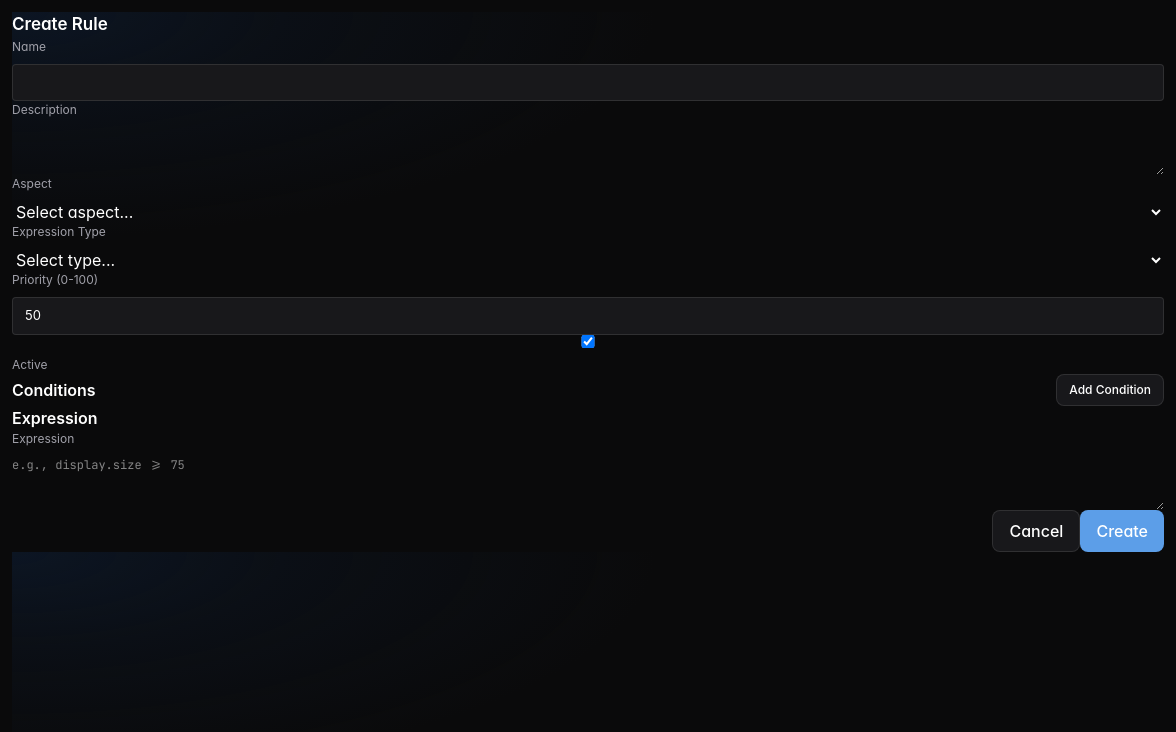
it: RuleEditor › Condition Builder › adds new condition when add button clicked
Click the button "Add Condition" at (1110, 390), box [1056, 374, 1164, 406]
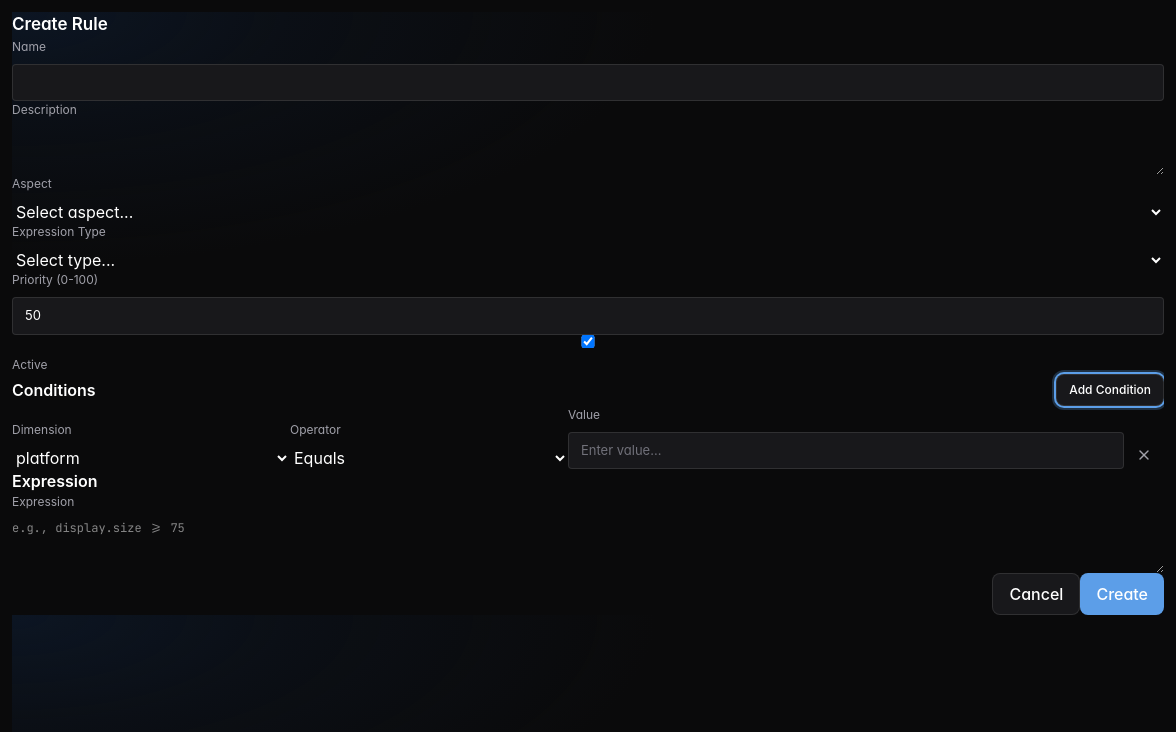
Result: the dropdown labelled "Dimension" is shown at [12, 447, 290, 469]
